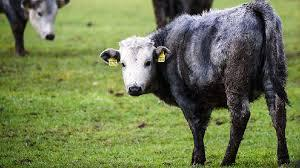cow: (99, 0, 292, 168), (0, 0, 71, 58), (152, 0, 215, 39)
